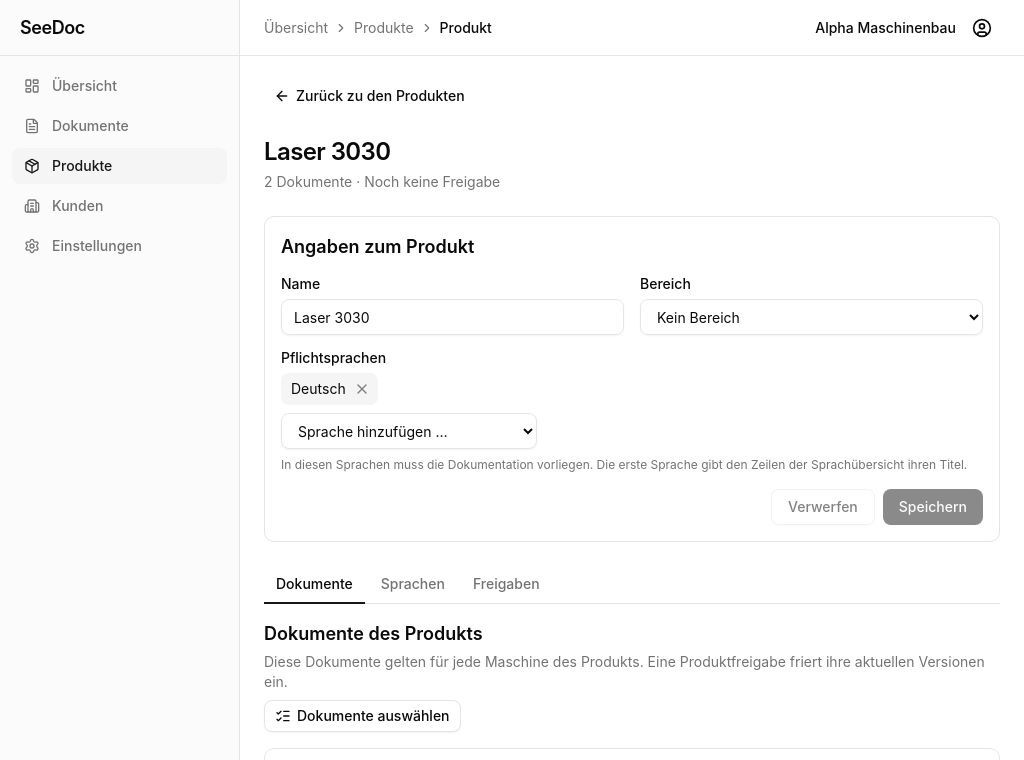
ProductDocuments › explains a refused set inside the picker
The width and height of the screenshot is (1024, 760).
Step 1. Click the button "Dokumente auswählen" → point(362, 716), box [264,700,460,732]
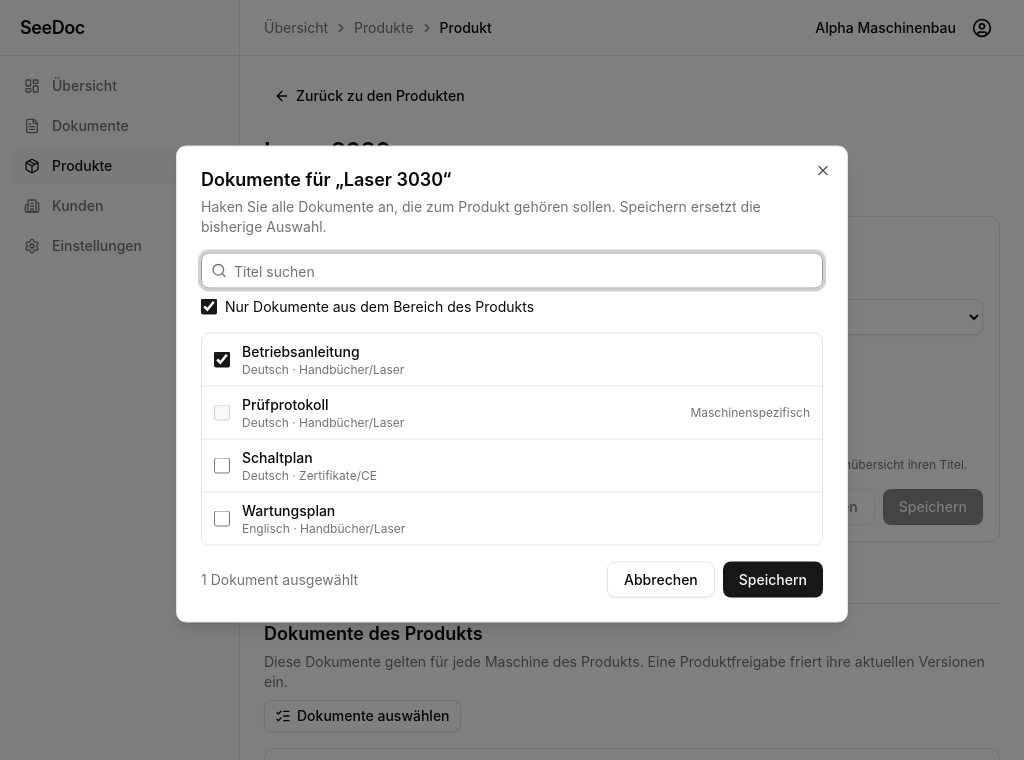
expect the list named "Dokumente der Bibliothek" is shown: met, box [201,332,823,546]
Step 2. Click the checkbox labelled "Schaltplan Deutsch · Zertifikate/CE" → point(222, 466), box [214,458,230,474]
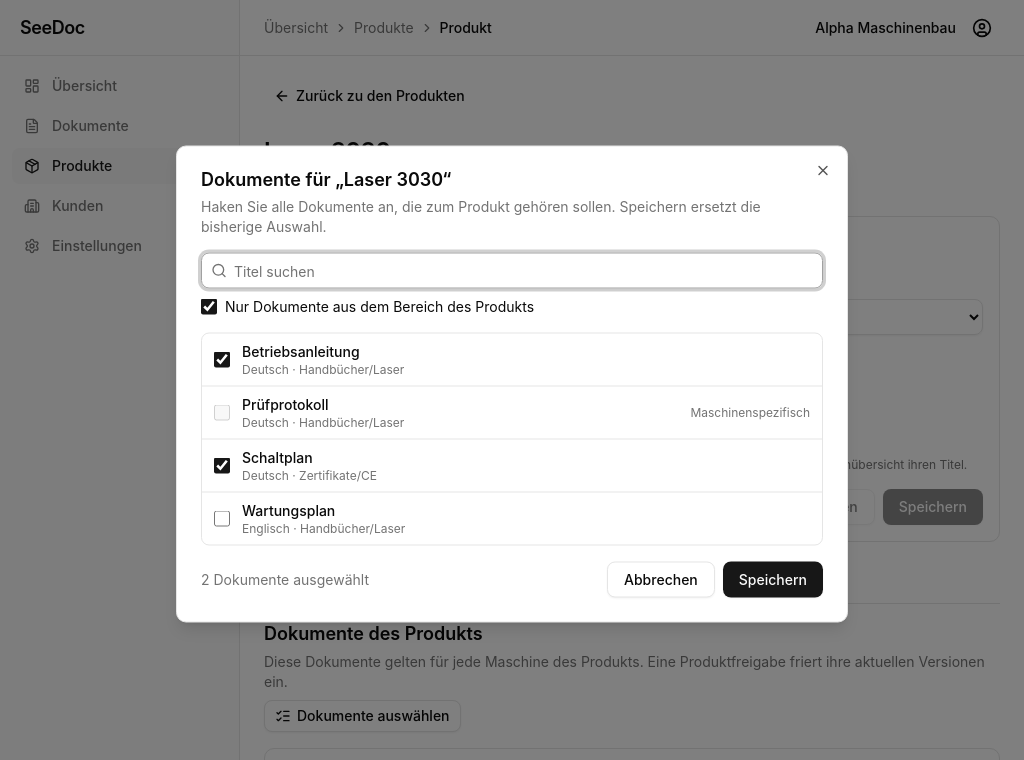
Step 3. Click the button "Speichern" → point(773, 580), box [723,562,823,598]
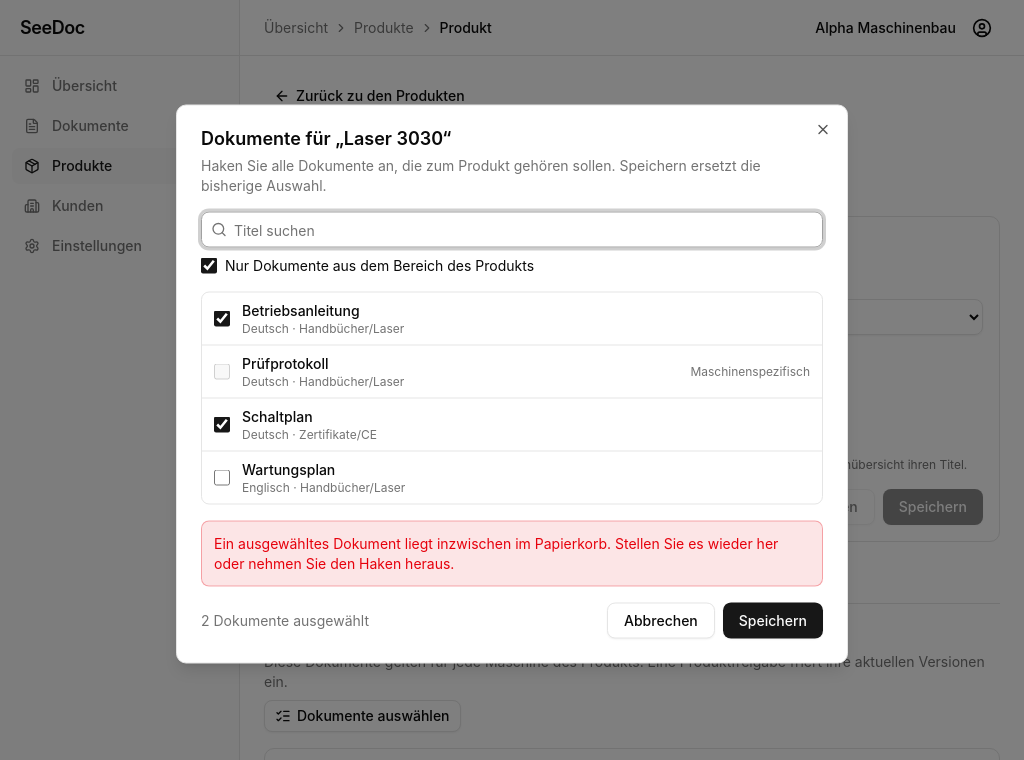
expect the dialog is shown: met, box [176,104,848,664]
expect the message shows "Ein ausgewähltes Dokument liegt inzwischen im Papierkorb.": met, box [214,534,778,572]
